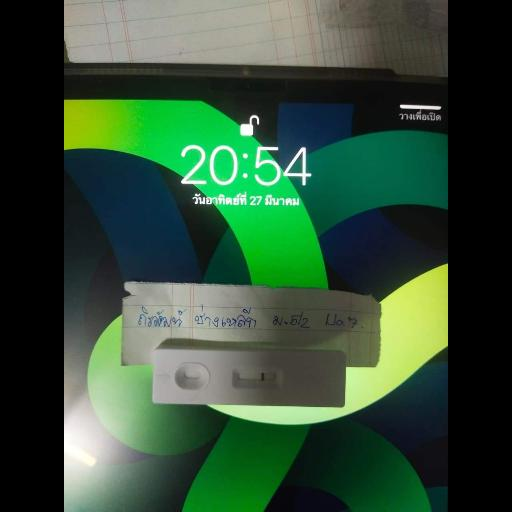Neg: (154, 350, 344, 404)
